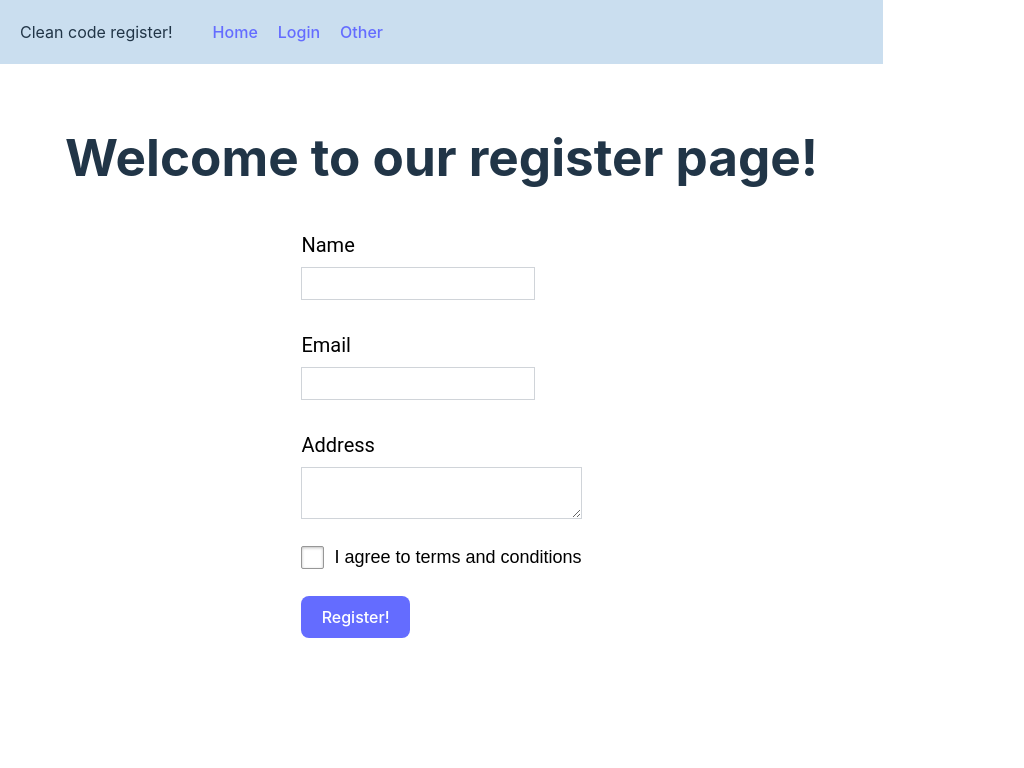
it: RegistrationPage › Renders api error on false response as terms error
Type "Name" into the field labelled "Name" at {"x": 418, "y": 284}, box [302, 267, 536, 300]
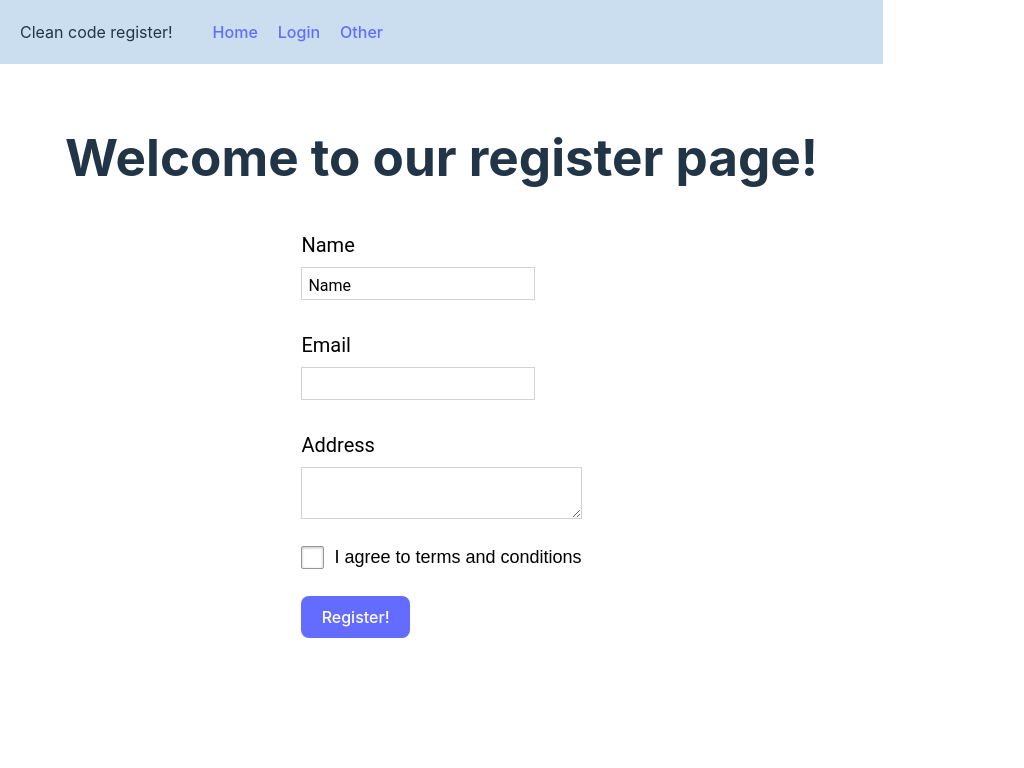
Type "Email" into the field labelled "Email" at {"x": 418, "y": 384}, box [302, 367, 536, 400]
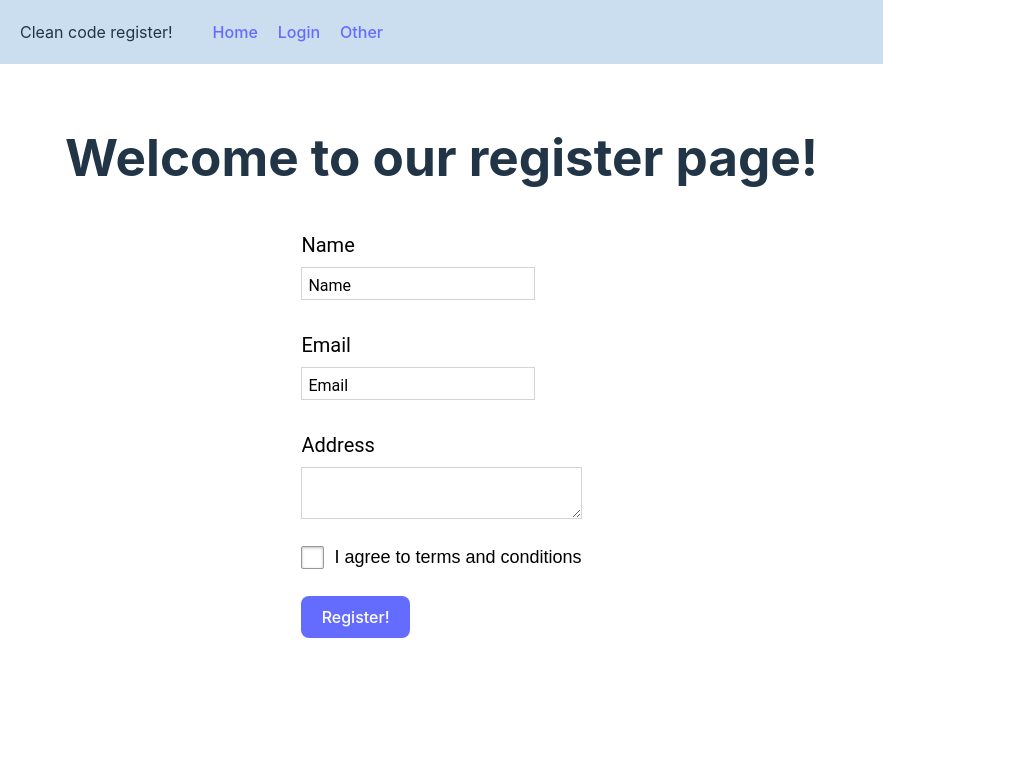
Type "Address" into the text box labelled "Address" at {"x": 442, "y": 493}, box [302, 467, 582, 519]
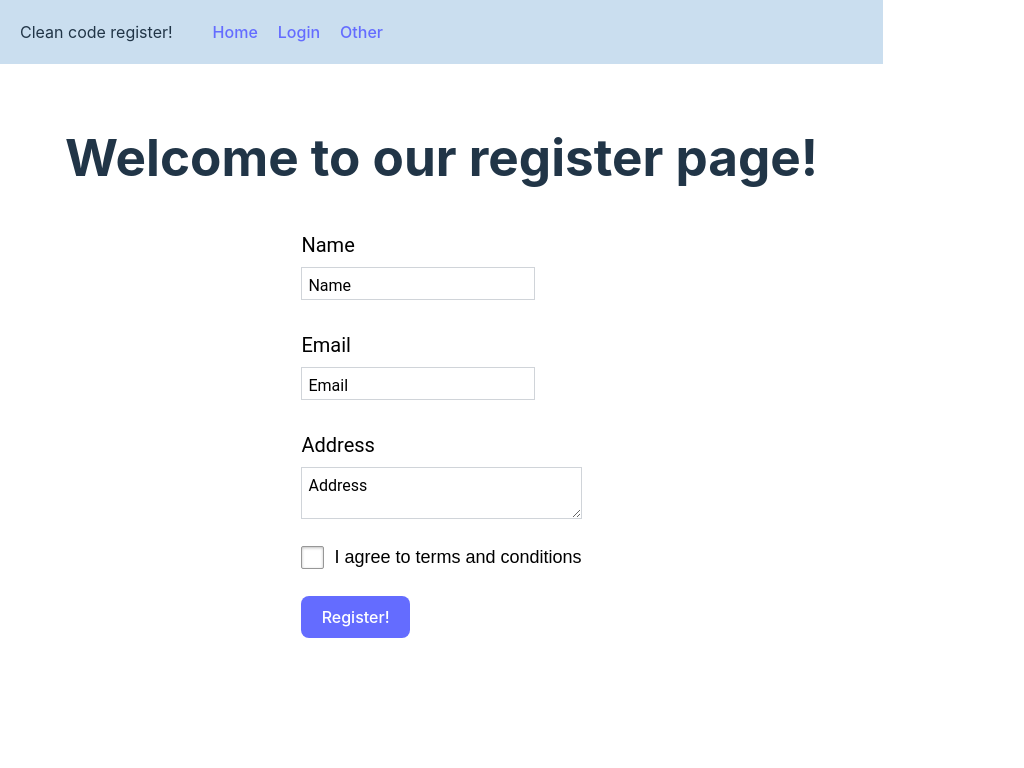
Click the checkbox labelled "I agree to terms and conditions" at {"x": 313, "y": 558}, box [302, 546, 324, 569]
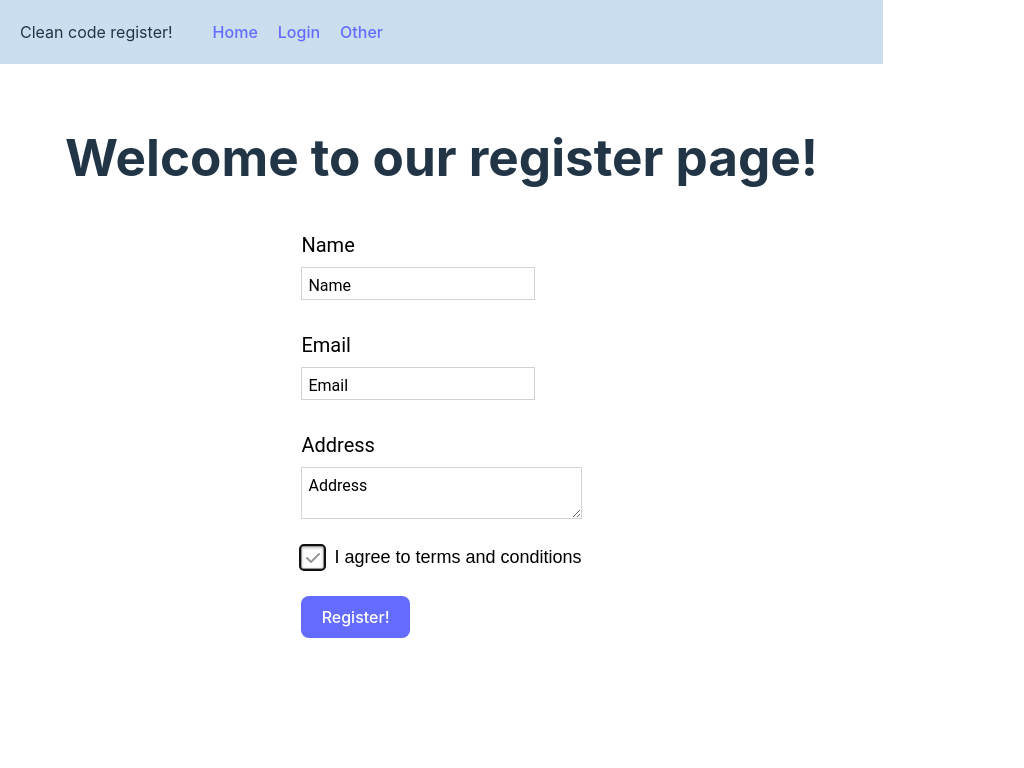
Click the button "Register!" at {"x": 356, "y": 617}, box [302, 596, 410, 638]
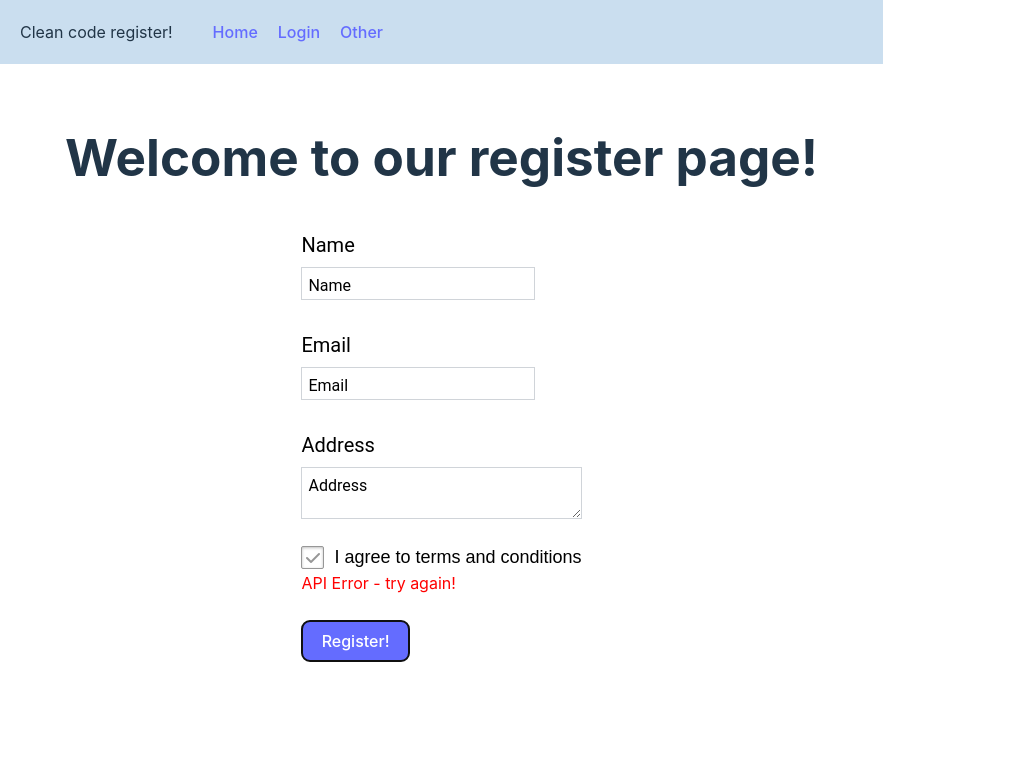
expect the text "API Error - try again!" is shown: met, box [302, 573, 456, 593]
